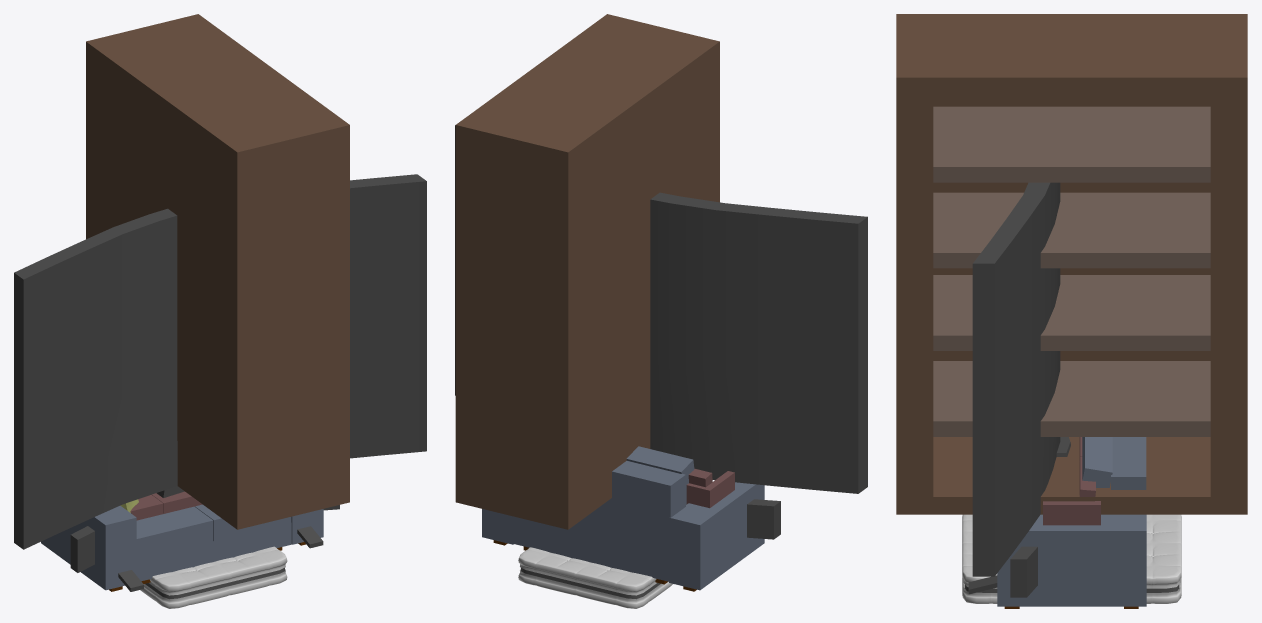
Rendered from Items.fbx.
3 renders of one model, left to right at view 1: azimuth 30°, elevation 25°; view 2: azimuth 150°, elevation 25°; view 3: azimuth 270°, elevation 25°, orthographic. The views are drawn at different scales.
Parts seen in each view (by area): view 1: BookShelf, pCube127, pCube118, Couch2Base, pPlane52, pCube123, pPlane56, pCube128, pCube124, pCube121, pCube107, pPlane54 (+1 smaller); view 2: BookShelf, pCube127, Couch2Back, pCube118, pPlane52, pPlane56, pCube128, pCube126, CouchBody, pCube121, pPlane54; view 3: BookShelf, pCube127, pCube131, pCube132, pCube133, pCube134, pCube121, pPlane52, Couch2Back, pCube128, pCube125, CouchBody (+1 smaller).
Part boxes in pixels (<box>): BookShelf: <box>86,14,349,529</box>; pCube127: <box>14,174,426,549</box>; pCube118: <box>41,505,136,590</box>; Couch2Base: <box>136,523,291,581</box>; pPlane52: <box>149,546,287,595</box>; pCube123: <box>136,506,213,560</box>; pPlane56: <box>140,569,287,608</box>; pCube128: <box>70,486,339,572</box>; pCube124: <box>195,504,291,541</box>; pCube121: <box>291,509,323,544</box>; pCube107: <box>152,491,202,513</box>; pPlane54: <box>145,567,284,599</box>; BookShelf: <box>455,14,719,529</box>; pCube127: <box>455,125,867,493</box>; Couch2Back: <box>513,461,685,581</box>; pCube118: <box>669,482,764,590</box>; pPlane52: <box>518,547,656,595</box>; pPlane56: <box>518,568,672,608</box>; pCube128: <box>747,499,780,539</box>; pCube126: <box>626,446,694,504</box>; CouchBody: <box>686,471,734,508</box>; pCube121: <box>482,509,513,544</box>; pPlane54: <box>521,568,660,599</box>; BookShelf: <box>896,14,1247,514</box>; pCube127: <box>972,182,1060,576</box>; pCube131: <box>933,106,1210,182</box>; pCube132: <box>933,192,1210,268</box>; pCube133: <box>933,361,1210,436</box>; pCube134: <box>933,275,1210,350</box>; pCube121: <box>997,514,1146,606</box>; pPlane52: <box>962,514,1181,588</box>; Couch2Back: <box>1111,437,1146,489</box>; pCube128: <box>1010,437,1070,597</box>; pCube125: <box>1082,437,1112,487</box>; CouchBody: <box>1043,501,1100,525</box>.
Bounding box in the file's own units: 104 × 115 × 67.43.
